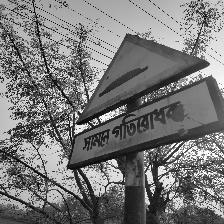Speed-breaker: (69, 33, 224, 170)
